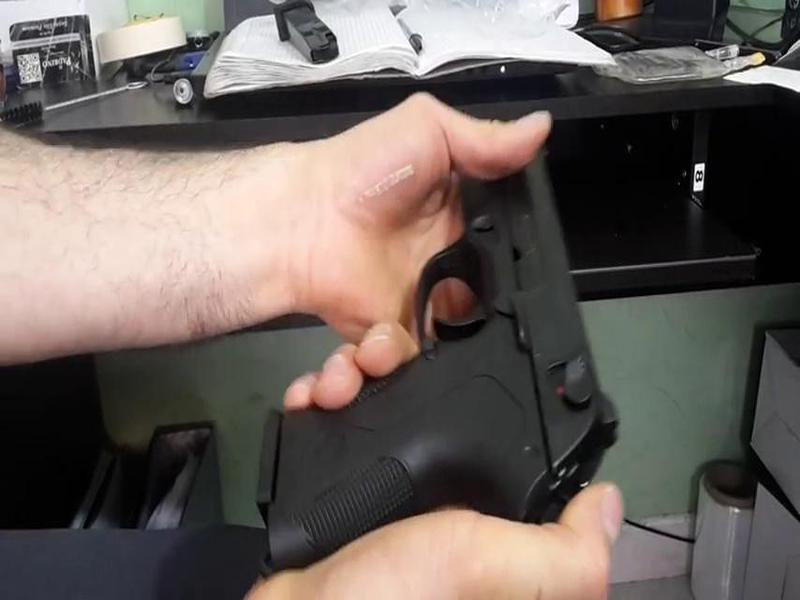Pistola: (238, 116, 619, 545)
